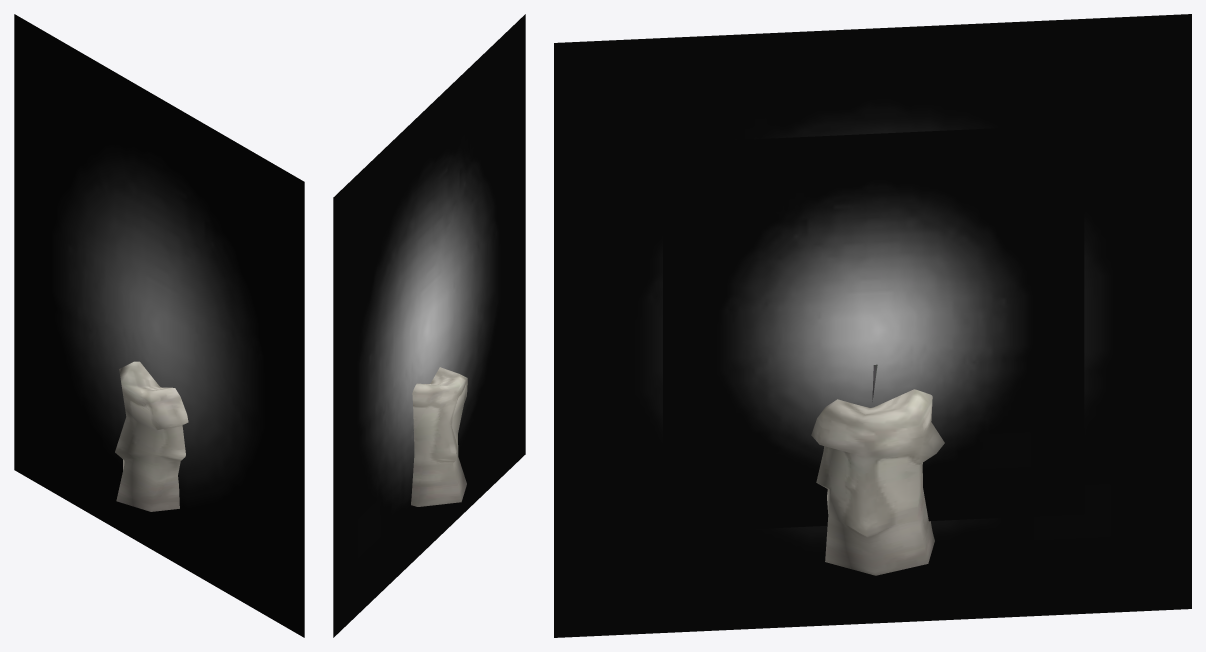
3 renders of one model, left to right at view 1: azimuth 30°, elevation 25°; view 2: azimuth 150°, elevation 25°; view 3: azimuth 270°, elevation 25°, orthographic. The views are drawn at different scales.
Size of the model in its own units: 0.2956 by 1.55 by 1.5.
Materials: 3 (3 with a texture image).
